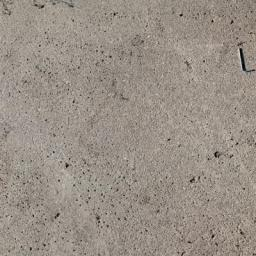FOD: (235, 44, 256, 78)
